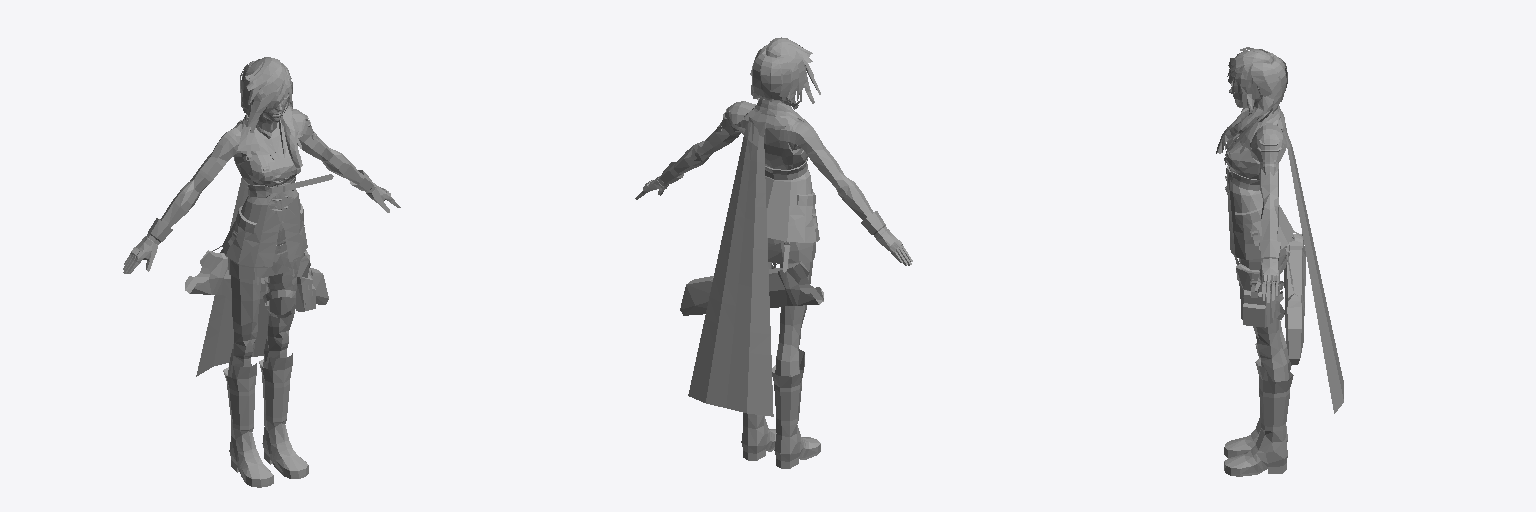
Rendered from Lightning.obj.
3 renders of one model, left to right at view 1: azimuth 30°, elevation 25°; view 2: azimuth 150°, elevation 25°; view 3: azimuth 270°, elevation 25°, orthographic.
Parts seen in each view (by area): view 1: FF13_360_CHARACTER_Claire_Farron_Default; view 2: FF13_360_CHARACTER_Claire_Farron_Default; view 3: FF13_360_CHARACTER_Claire_Farron_Default.
Part boxes in pixels (left/top/right/bottom): FF13_360_CHARACTER_Claire_Farron_Default: left=123, top=57, right=400, bottom=487; FF13_360_CHARACTER_Claire_Farron_Default: left=635, top=37, right=912, bottom=468; FF13_360_CHARACTER_Claire_Farron_Default: left=1216, top=47, right=1343, bottom=476.
Size of the model in its own units: 1.22 by 1.74 by 0.4915.